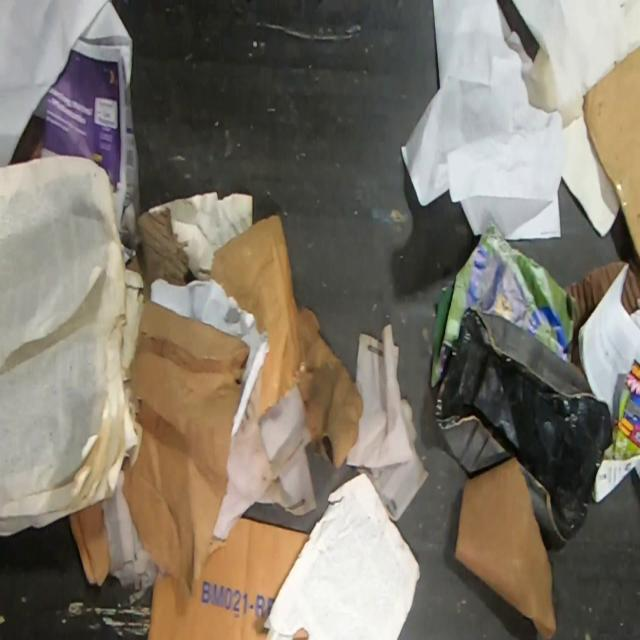cardboard: (209, 213, 363, 468), (122, 301, 248, 601), (430, 215, 576, 387), (147, 516, 308, 640), (454, 455, 556, 640), (583, 45, 640, 263), (563, 258, 640, 389), (70, 498, 110, 586)
